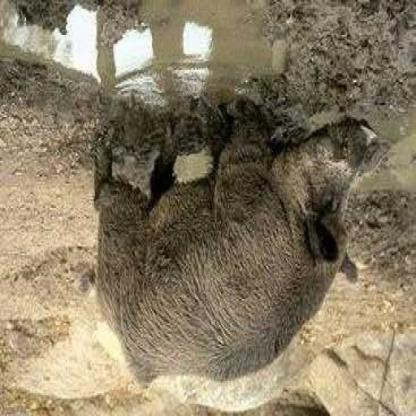boar: (96, 111, 389, 404)
